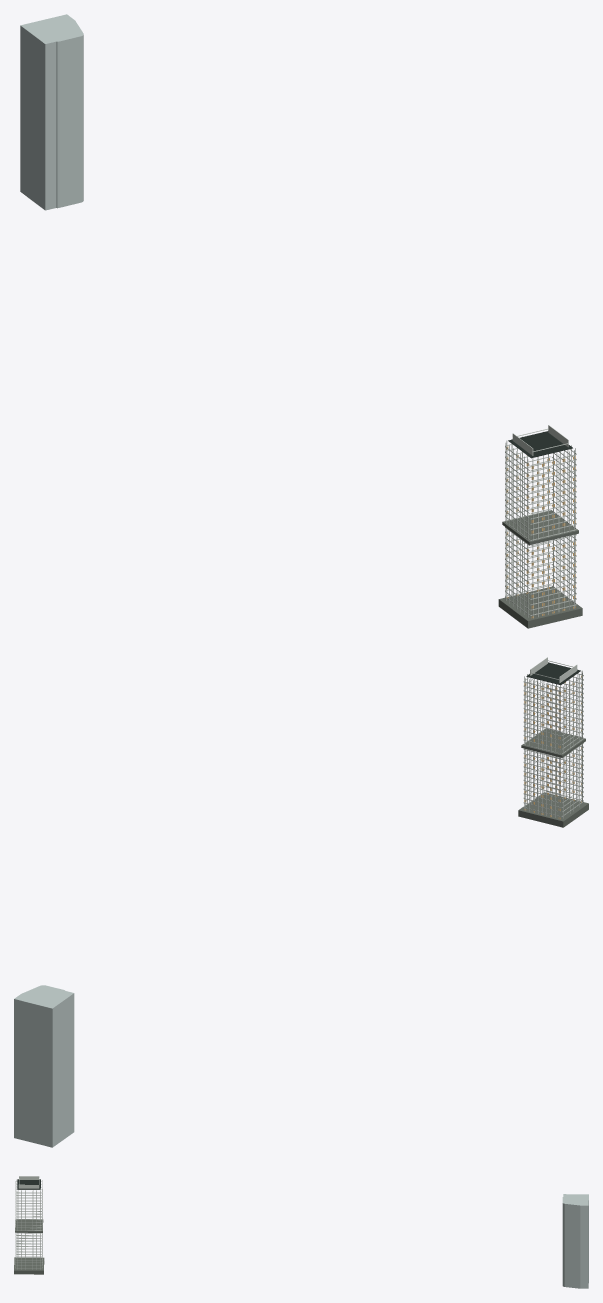
The model's file is venture-capital.glb.
3 renders of one model, top to bottom at view 1: azimuth 30°, elevation 25°; view 2: azimuth 150°, elevation 25°; view 3: azimuth 270°, elevation 25°, orthographic. The views are drawn at different scales.
Parts seen in each view (by area): view 1: envelope, floor_bands, fins, podium, refuge_belt, night_windows, roof_deck; view 2: envelope, fins, floor_bands, podium, refuge_belt, night_windows; view 3: envelope, floor_bands, fins, podium, refuge_belt, crown_frame, roof_deck.
Boxes of the visible parts, <box> form: envelope: <box>20,14,83,210</box>; floor_bands: <box>505,444,576,615</box>; fins: <box>505,431,575,618</box>; podium: <box>498,586,582,628</box>; refuge_belt: <box>502,510,578,545</box>; night_windows: <box>506,446,575,618</box>; roof_deck: <box>508,431,572,458</box>; envelope: <box>14,985,74,1147</box>; fins: <box>524,663,582,819</box>; floor_bands: <box>523,673,583,816</box>; podium: <box>518,792,588,827</box>; refuge_belt: <box>521,728,585,757</box>; night_windows: <box>524,675,581,819</box>; envelope: <box>562,1194,588,1288</box>; floor_bands: <box>15,1181,42,1268</box>; fins: <box>15,1180,42,1269</box>; podium: <box>14,1257,44,1274</box>; refuge_belt: <box>15,1219,43,1232</box>; crown_frame: <box>18,1176,39,1188</box>; roof_deck: <box>17,1179,40,1189</box>.
Bounding box in the file's own units: 144 × 211 × 1263.
